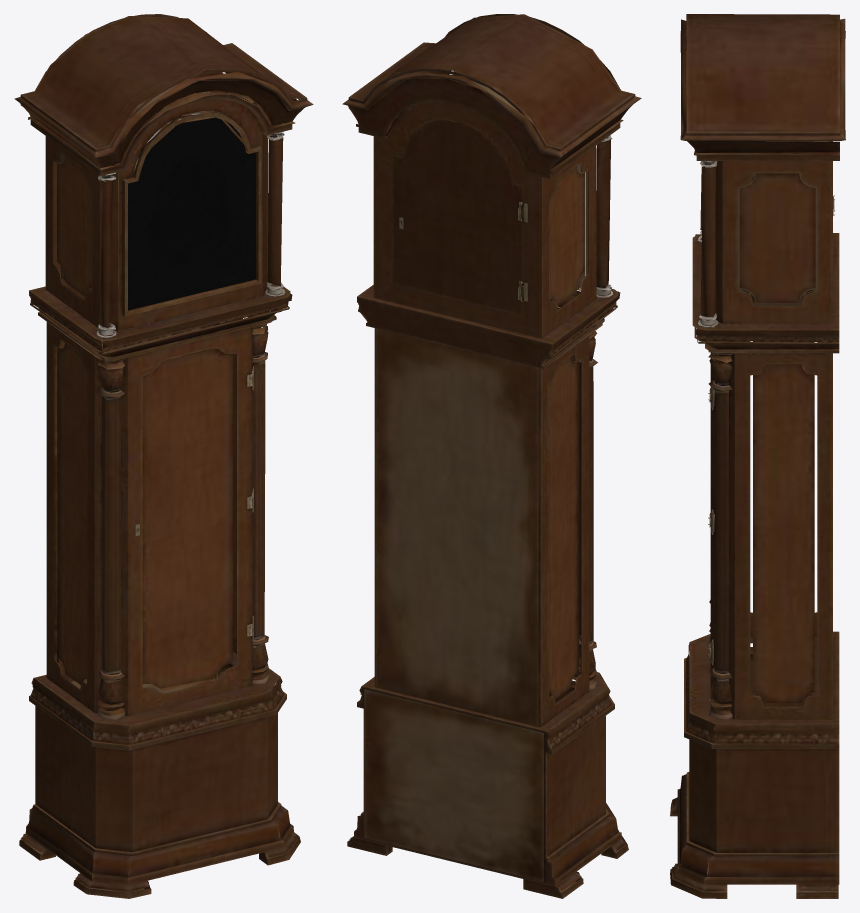
File: grandclock.glb
The picture shows the model from 3 angles, left to right: view 1: azimuth 30°, elevation 25°; view 2: azimuth 150°, elevation 25°; view 3: azimuth 270°, elevation 25°; orthographic projection. The views are drawn at different scales.
Visible parts, largest first — view 1: grandclock; view 2: grandclock; view 3: grandclock.
Part boxes in pixels (x1,y1,x2,y2): grandclock: (14,14,313,898); grandclock: (342,14,641,898); grandclock: (670,14,845,898).
Size of the model in its own units: 0.5418 by 1.9 by 0.3695.
Materials: 2 (2 with a texture image).
